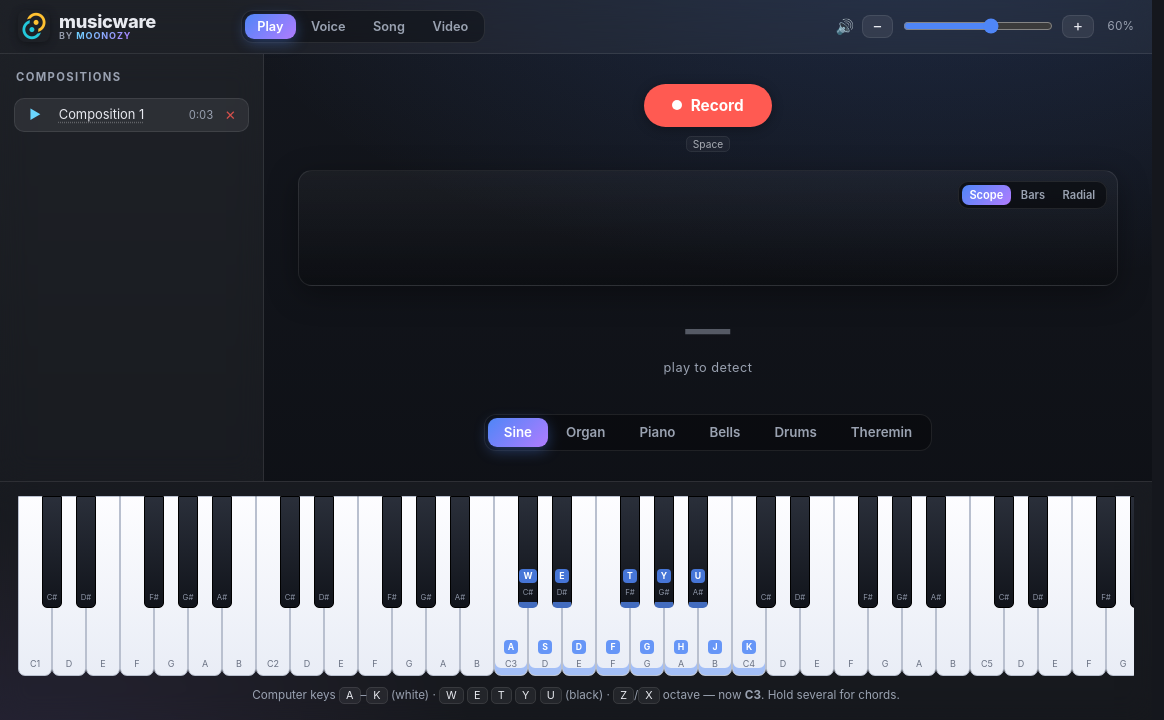
Scenario: recorder UI (Transport + Library) › renames a take inline
The width and height of the screenshot is (1164, 720).
Click the button with aria-label "Rename Composition 1".
click(118, 115)  # box [55,105,181,124]
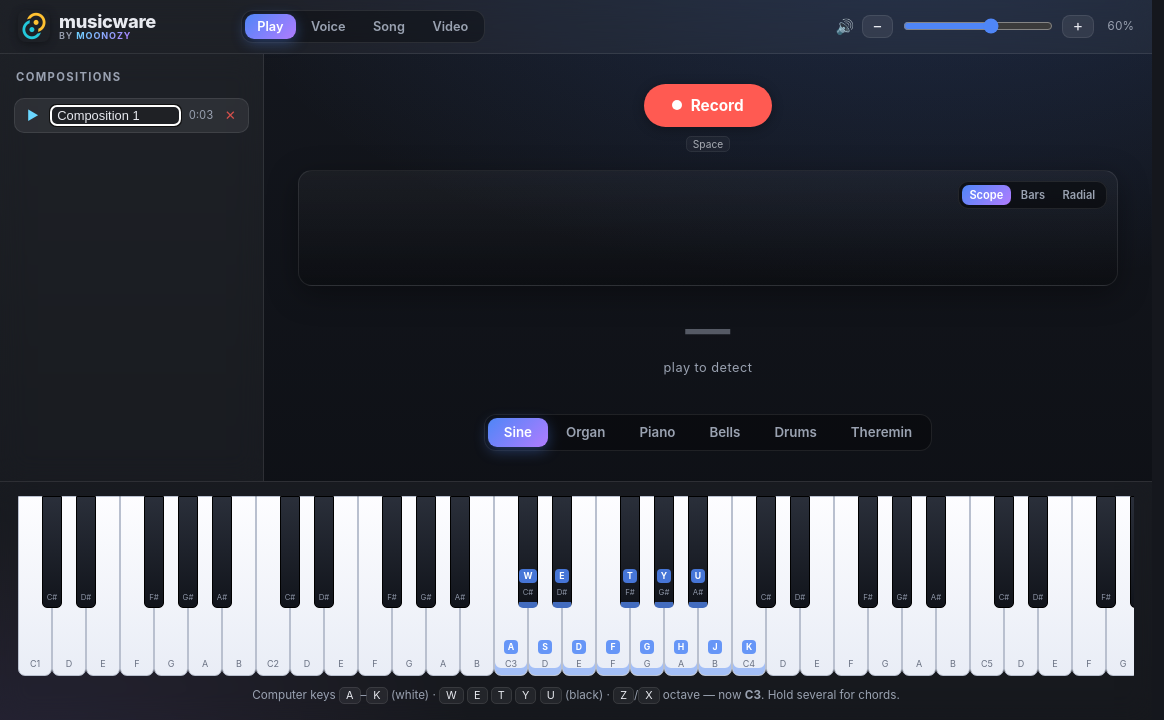
Replace the text in the field named "New name" with "Intro" at point(116, 115), box [50,105,181,126]
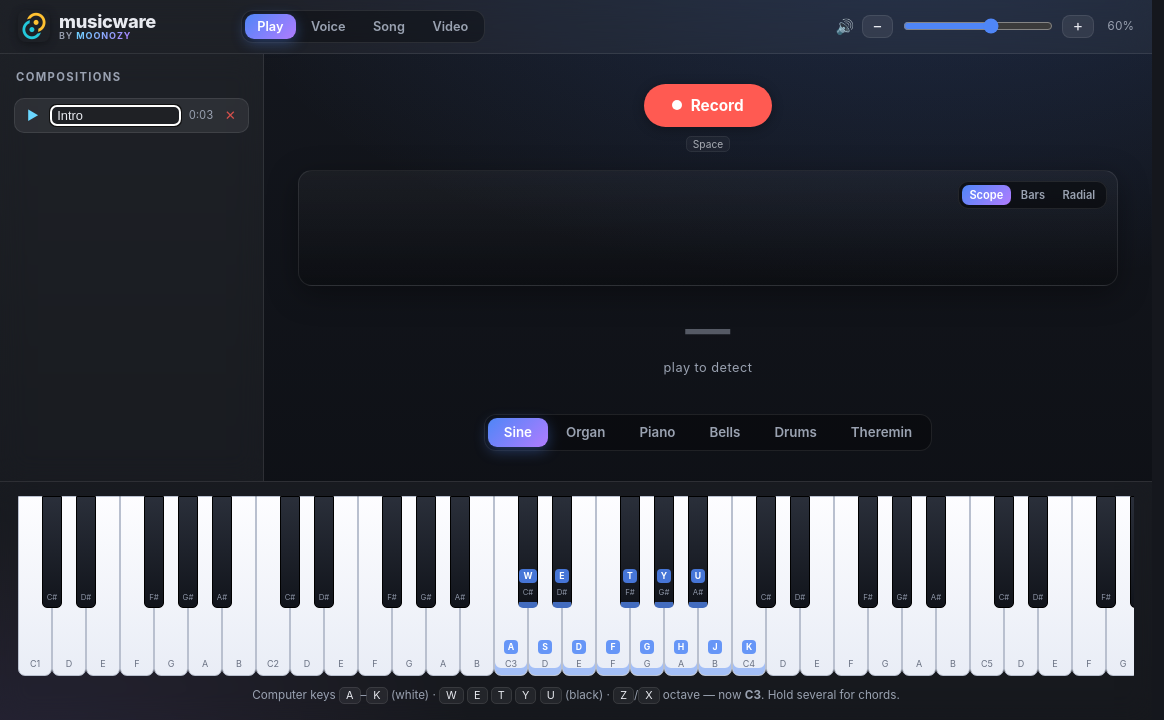
Press Enter in the field named "New name", box [50,105,181,126]
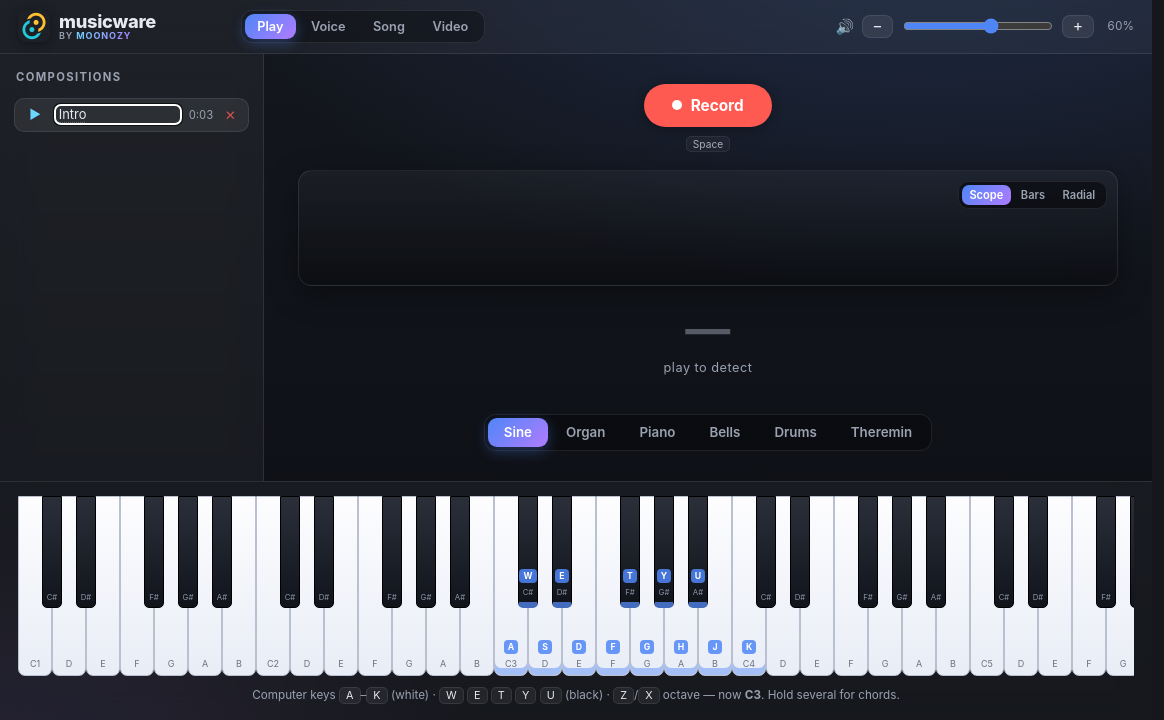
Check: the button "Intro" is shown, box [55,105,181,124]
